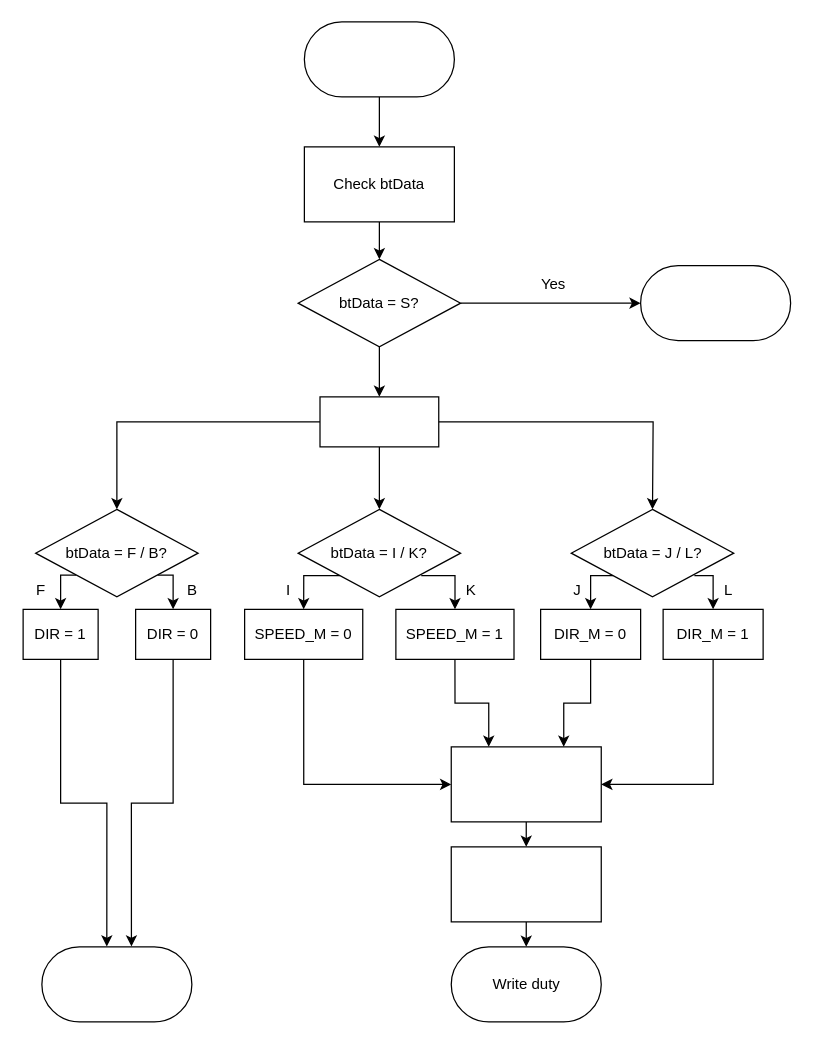
Some shapes in this 813 by 1044 pixel diagram are drawn without their labels. Each missing label, with the centre of its shape:
"Change State" goes at point (525, 784).
"Checking Mode Mode = 0" goes at point (378, 59).
"Implement State" goes at point (525, 884).
"No" goes at point (379, 421).
"Stop" goes at point (715, 302).
"Write DIR_PIN" goes at point (116, 984).
